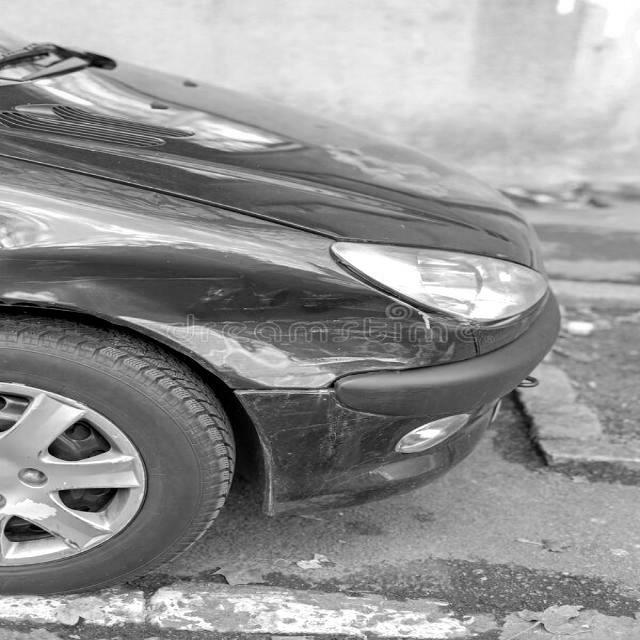fender-dent: (0, 216, 350, 465)
